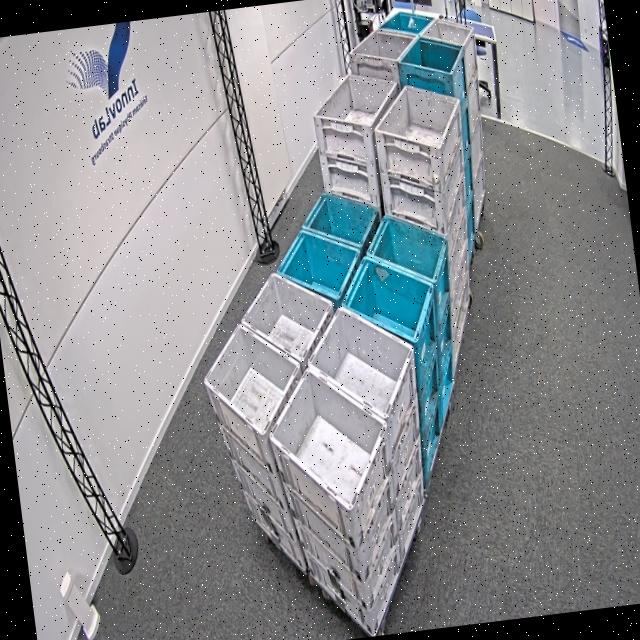Roll3G: (368, 76, 466, 157), (308, 67, 402, 134)
Roll4G: (344, 22, 422, 68), (416, 13, 477, 54)
Roll8G: (253, 296, 433, 520), (190, 262, 348, 442)
RollB4: (393, 29, 468, 82), (375, 5, 438, 41)
RollB8: (330, 206, 460, 350), (266, 184, 389, 306)
